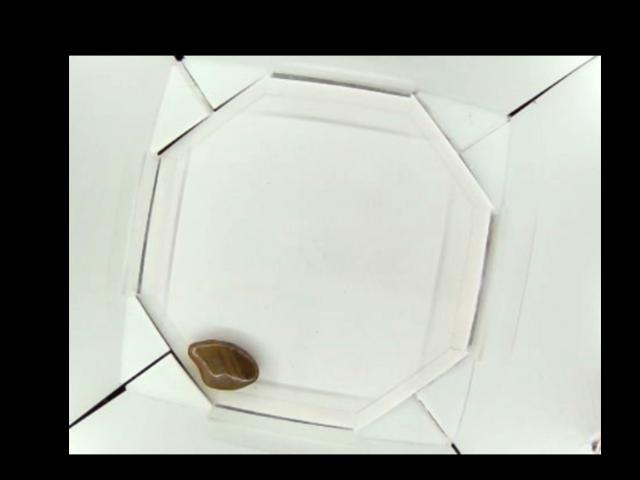Pebble: (188, 338, 260, 390)
